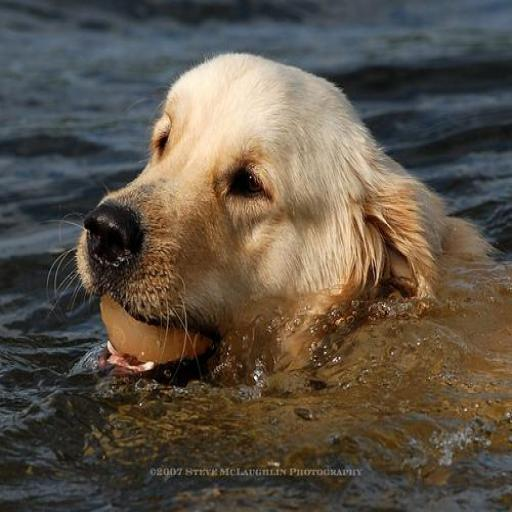dog_face: (68, 40, 418, 382)
